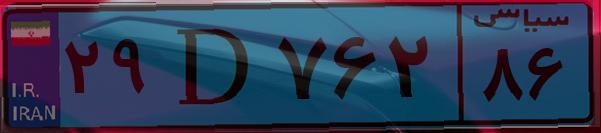2: (385, 28, 445, 110), (57, 26, 110, 100)
6: (330, 28, 385, 110), (525, 38, 570, 115)
7: (270, 28, 330, 110)
8: (475, 38, 525, 113)
9: (110, 28, 158, 98)
D: (158, 12, 270, 120)
